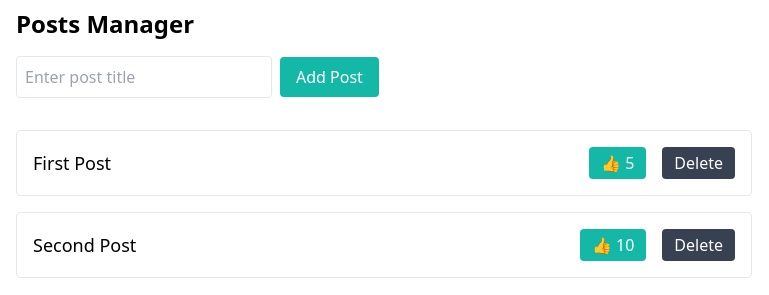
Test: App Component › updates post likes
This screenshot has width=769, height=295.
Click the button "👍 5" at (618, 163), box 589,147 -> 646,179
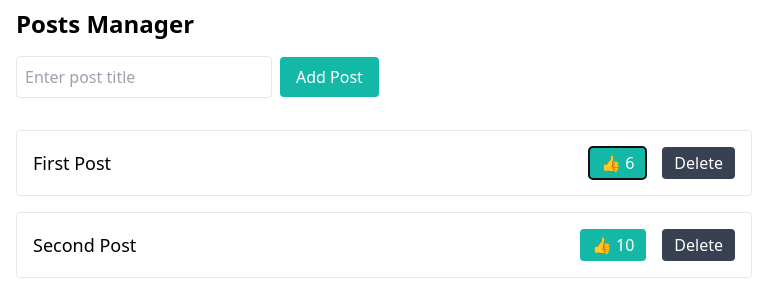
Now the button "👍 6" is shown, box 589,147 -> 646,179
